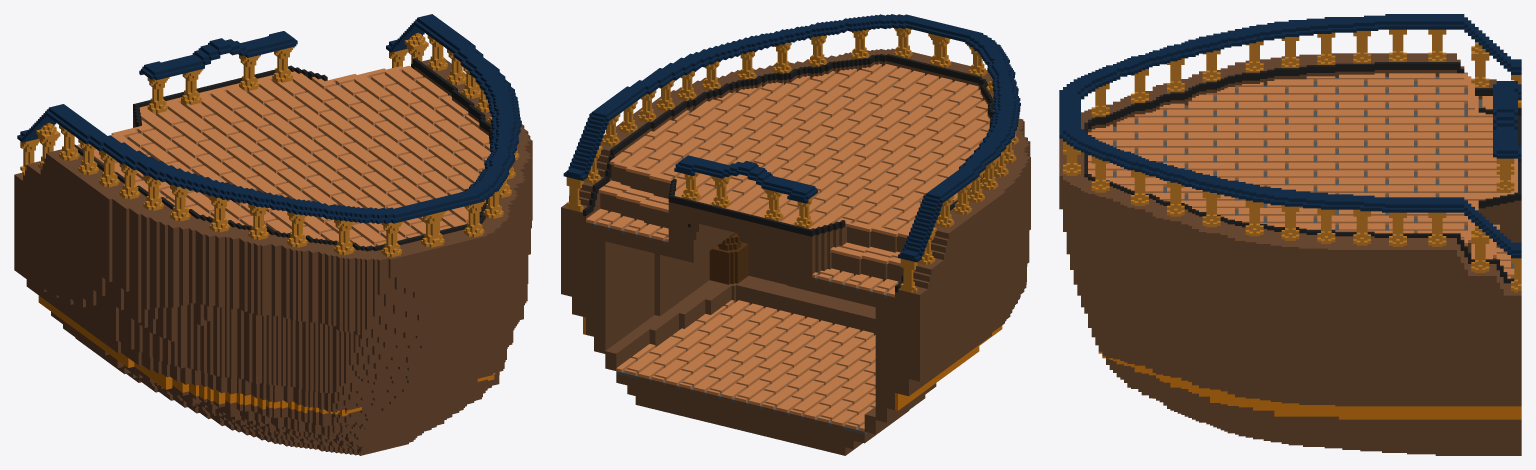
The model's file is ship-6.obj.
The picture shows the model from 3 angles, left to right: view 1: azimuth 30°, elevation 25°; view 2: azimuth 150°, elevation 25°; view 3: azimuth 270°, elevation 25°; orthographic projection. The views are drawn at different scales.
Size of the model in its own units: 13 by 9 by 12.9.
1 material, 1 textured.
